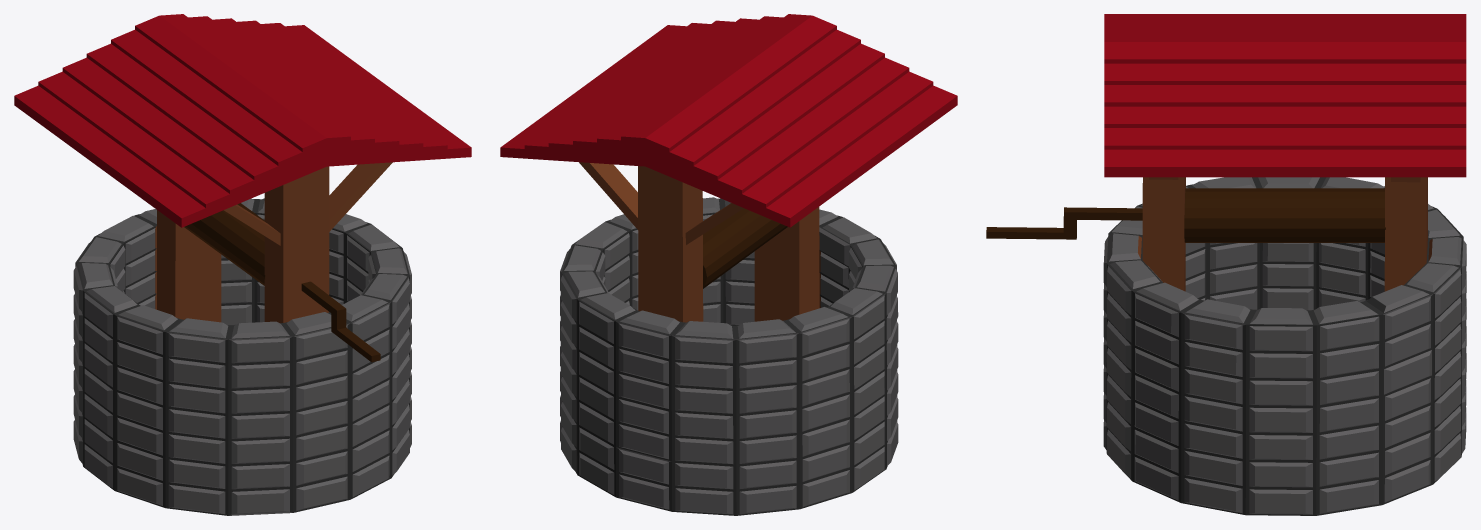
The model's file is well_newuv.fbx.
3 renders of one model, left to right at view 1: azimuth 30°, elevation 25°; view 2: azimuth 150°, elevation 25°; view 3: azimuth 270°, elevation 25°, orthographic. The views are drawn at different scales.
Parts seen in each view (by area): view 1: Cylinder; view 2: Cylinder; view 3: Cylinder.
Boxes of the visible parts, x1,y1,x2,y2 form: Cylinder: (14,14,471,515); Cylinder: (500,14,957,515); Cylinder: (986,14,1466,515).
Size of the model in its own units: 1101 by 1355 by 1455.
